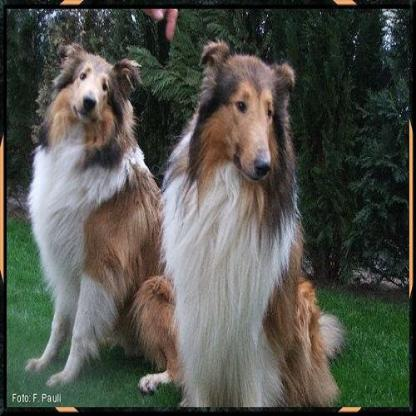collie: (135, 36, 342, 407), (22, 44, 164, 385)
